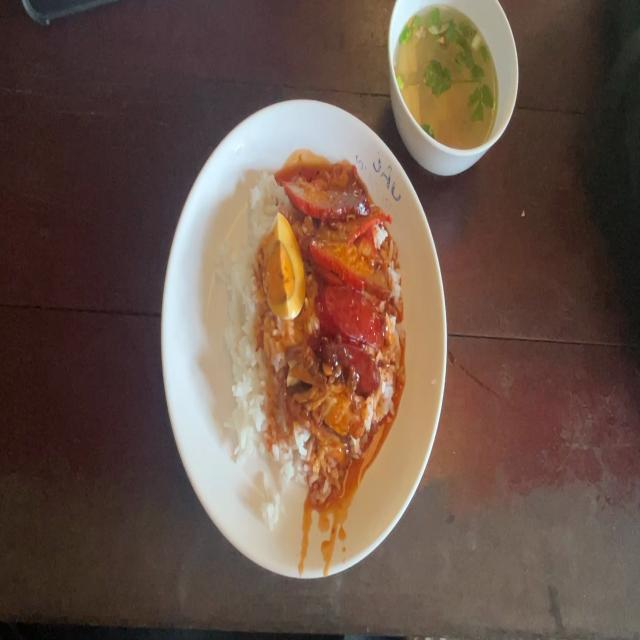01boiled_egg: (270, 224, 300, 310)
01chainese_sausage: (318, 286, 386, 390)
01crispy_pork: (296, 392, 362, 463)
01red_pork: (291, 175, 383, 278)
01red_pork_and_crispy_pork: (234, 180, 390, 486)
01rice: (231, 229, 271, 450), (235, 332, 288, 478), (250, 174, 289, 224)
